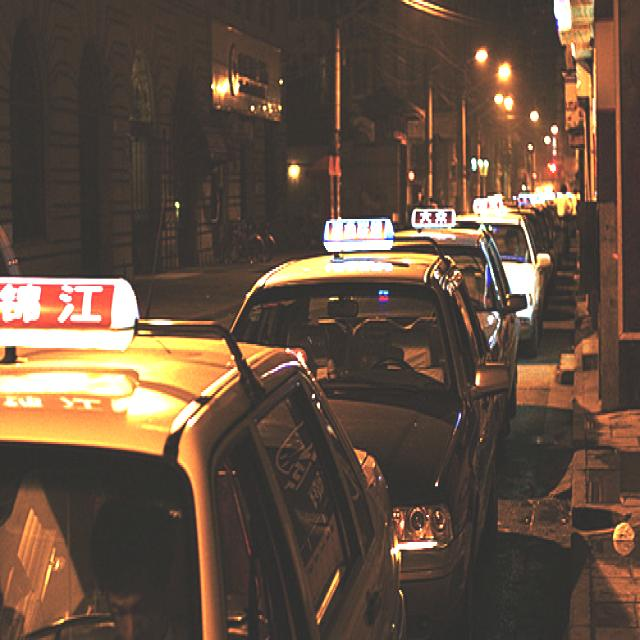Car: (0, 267, 404, 638), (235, 218, 510, 629)
